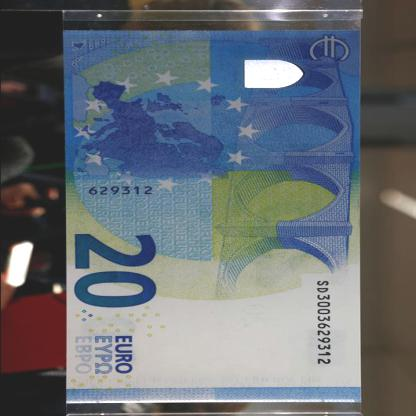euro_banknote: (28, 70, 401, 365)
